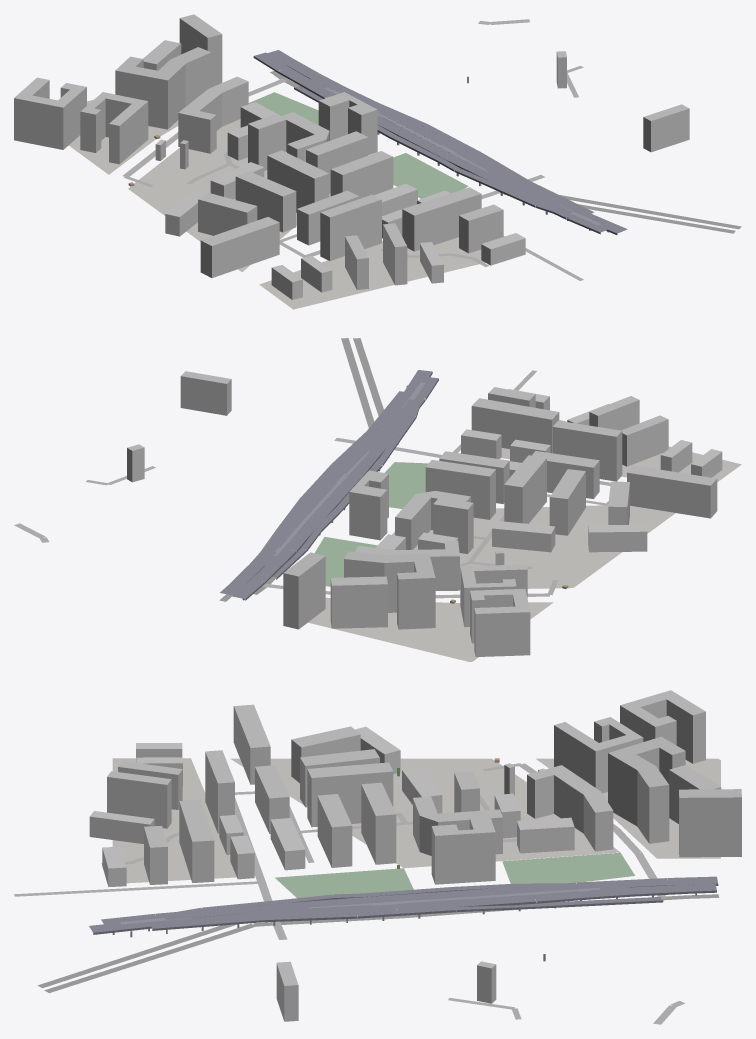
The picture shows the model from 3 angles, top to bottom: view 1: azimuth 30°, elevation 25°; view 2: azimuth 150°, elevation 25°; view 3: azimuth 270°, elevation 25°; orthographic projection. The views are drawn at different scales.
Bounding box in the file's own units: 556 × 56.03 × 599.
